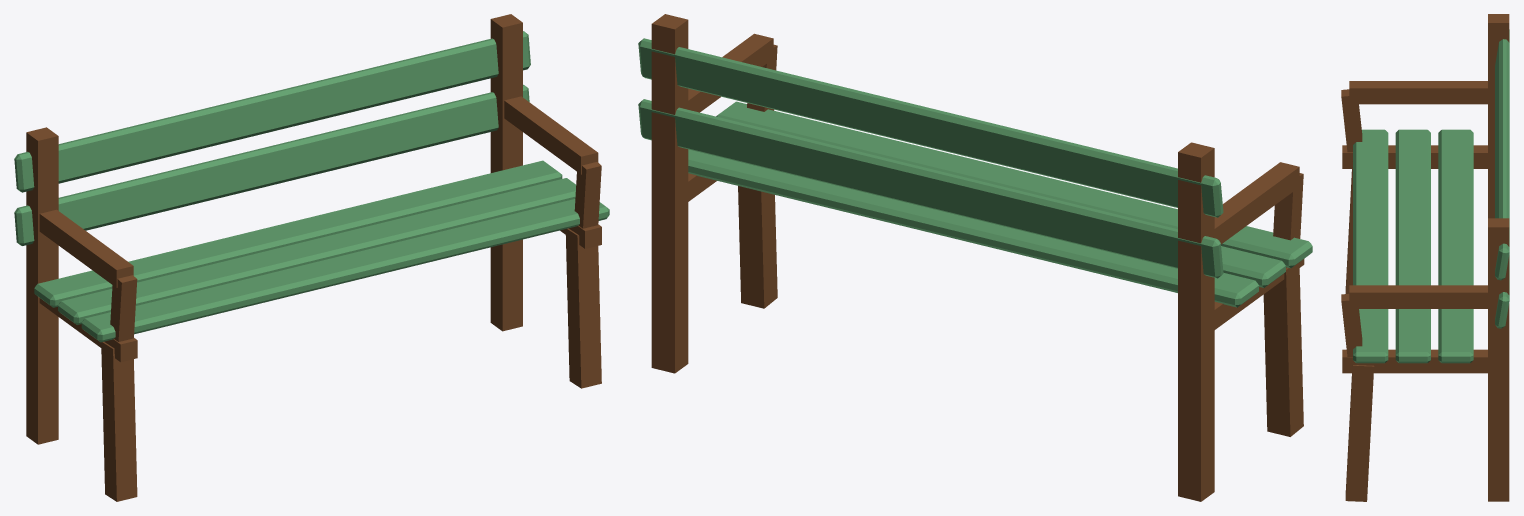
The model's file is yard_bench_v01.glb.
3 renders of one model, left to right at view 1: azimuth 30°, elevation 25°; view 2: azimuth 150°, elevation 25°; view 3: azimuth 270°, elevation 25°, orthographic. The views are drawn at different scales.
Visible parts, largest first — view 1: bench; view 2: bench; view 3: bench.
Part boxes in pixels (x1,y1,x2,y2): bench: (14,14,609,501); bench: (638,14,1312,501); bench: (1341,14,1509,501).
Size of the model in its own units: 1.5 by 0.8514 by 0.4732.
